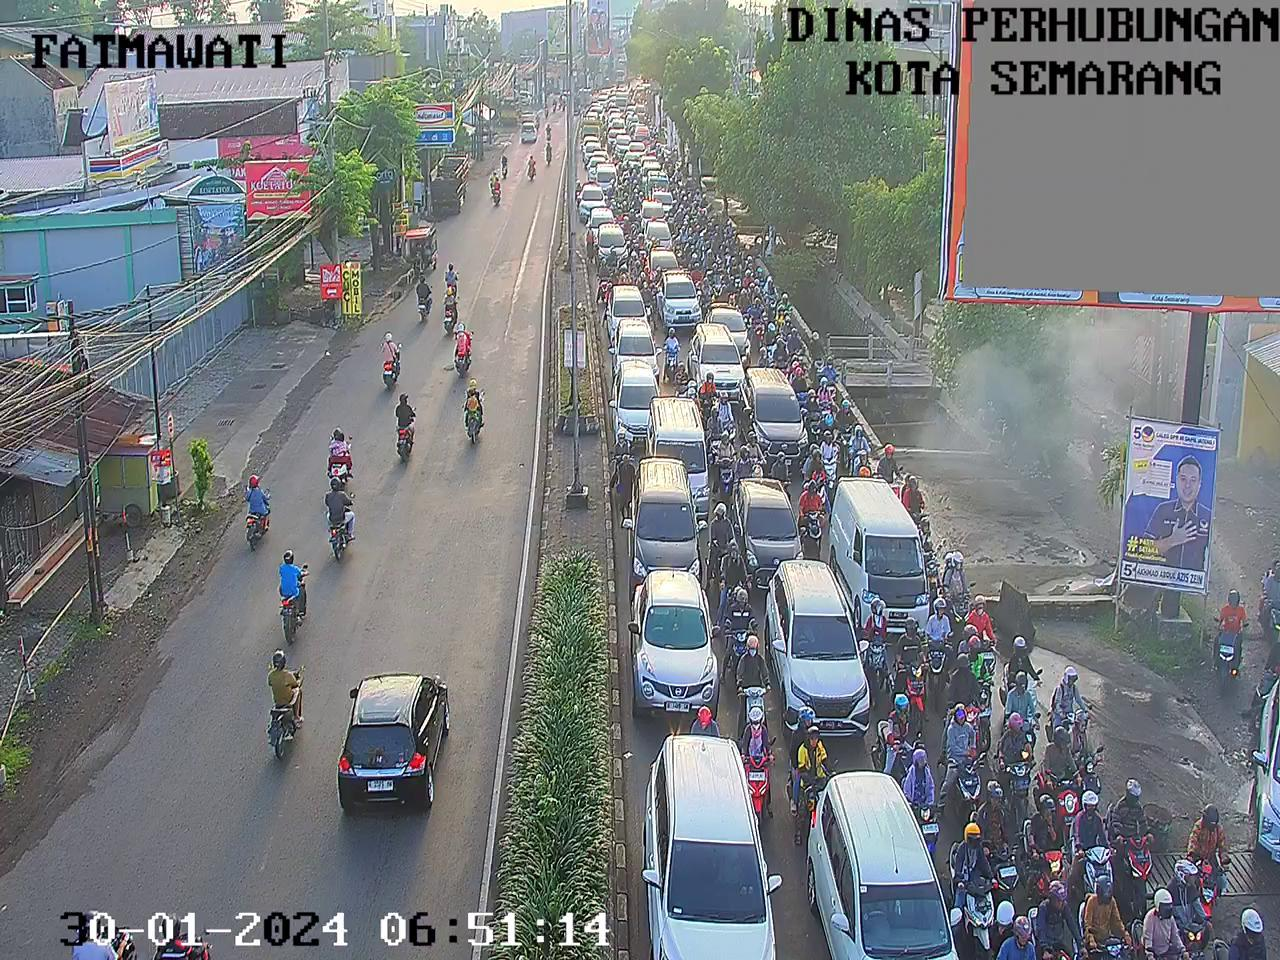car: (645, 724, 774, 960), (808, 767, 958, 960), (767, 558, 876, 734), (627, 560, 725, 722), (833, 474, 924, 632), (635, 454, 706, 578), (649, 391, 719, 514), (732, 464, 798, 580), (740, 361, 802, 461), (614, 355, 666, 458), (697, 325, 753, 410), (709, 294, 750, 352), (606, 282, 650, 336), (617, 315, 659, 368), (658, 272, 695, 325), (599, 220, 628, 263), (638, 197, 669, 227), (648, 244, 674, 278), (646, 220, 673, 252), (580, 181, 608, 209), (649, 168, 677, 191), (593, 166, 618, 187), (651, 189, 677, 208), (591, 207, 615, 227), (642, 154, 664, 173), (613, 133, 633, 153), (585, 139, 602, 157), (629, 141, 646, 157), (588, 156, 609, 167), (608, 127, 629, 137), (584, 133, 599, 143), (585, 111, 597, 123), (631, 103, 644, 114), (637, 127, 648, 139), (591, 105, 604, 115), (612, 118, 624, 127), (602, 95, 609, 109), (628, 110, 639, 118), (629, 118, 645, 123), (611, 114, 622, 121), (611, 107, 620, 113), (593, 101, 602, 107), (609, 96, 614, 105), (630, 124, 643, 126)
motorcycle: (979, 782, 1031, 905), (946, 833, 1000, 937), (741, 708, 788, 824), (1110, 779, 1158, 890), (1083, 879, 1133, 960), (1189, 802, 1234, 891), (1030, 800, 1075, 886), (708, 489, 754, 572), (1033, 886, 1082, 960), (792, 706, 826, 811), (904, 743, 941, 839), (880, 694, 921, 779), (1136, 887, 1184, 960), (1075, 786, 1114, 873), (1166, 865, 1205, 946), (963, 628, 995, 722), (736, 636, 770, 724), (1047, 721, 1079, 812), (951, 706, 979, 809), (999, 711, 1030, 800), (903, 615, 930, 711), (722, 584, 756, 659), (1210, 906, 1258, 960), (1007, 635, 1042, 704), (915, 516, 943, 600), (958, 599, 995, 664), (1070, 700, 1096, 791), (992, 905, 1034, 958), (1010, 678, 1049, 734), (869, 600, 895, 685), (939, 545, 971, 613), (805, 475, 828, 551), (953, 666, 984, 722), (834, 401, 860, 466), (705, 408, 730, 471), (933, 607, 951, 690), (901, 475, 925, 531), (1056, 671, 1075, 738), (818, 432, 842, 487), (714, 390, 740, 437), (716, 434, 739, 485), (725, 541, 743, 603), (820, 371, 840, 430), (687, 705, 720, 739), (790, 324, 813, 370), (883, 442, 905, 488), (775, 447, 794, 494), (747, 425, 765, 474), (808, 333, 827, 377), (803, 388, 820, 437), (785, 356, 808, 391), (850, 421, 871, 455), (671, 359, 688, 400), (666, 328, 683, 369), (747, 305, 770, 335), (598, 254, 610, 299), (640, 284, 655, 319), (738, 446, 751, 483), (709, 263, 722, 301), (854, 450, 871, 478), (778, 287, 791, 324), (727, 258, 743, 286), (824, 350, 835, 393), (689, 371, 700, 403), (774, 339, 788, 364), (724, 236, 738, 261), (778, 315, 796, 334), (699, 277, 711, 309), (632, 258, 643, 289), (766, 277, 780, 302), (671, 236, 682, 266), (759, 345, 774, 366), (619, 190, 632, 213), (690, 264, 703, 286), (637, 234, 648, 260), (766, 320, 776, 348), (623, 216, 633, 244), (680, 218, 690, 246), (703, 376, 713, 407), (668, 210, 680, 233), (746, 256, 760, 275), (697, 206, 711, 226), (682, 189, 694, 210), (575, 176, 584, 208), (739, 284, 750, 307), (706, 216, 719, 234), (713, 222, 724, 243), (751, 279, 761, 301), (673, 169, 686, 186), (691, 248, 702, 265), (706, 243, 717, 260), (631, 225, 639, 247), (669, 177, 680, 194), (605, 139, 614, 158), (757, 262, 767, 279), (616, 174, 626, 191), (621, 267, 630, 284), (623, 163, 632, 181), (632, 189, 640, 208), (656, 143, 665, 159), (728, 219, 735, 239), (700, 191, 709, 207), (745, 271, 756, 282), (649, 125, 658, 138), (695, 189, 703, 203), (611, 195, 616, 217), (632, 177, 640, 189), (646, 114, 654, 125), (665, 161, 672, 173), (629, 84, 634, 99), (642, 111, 648, 122), (641, 92, 646, 104)
truck: (615, 85, 633, 108), (582, 119, 603, 136)
